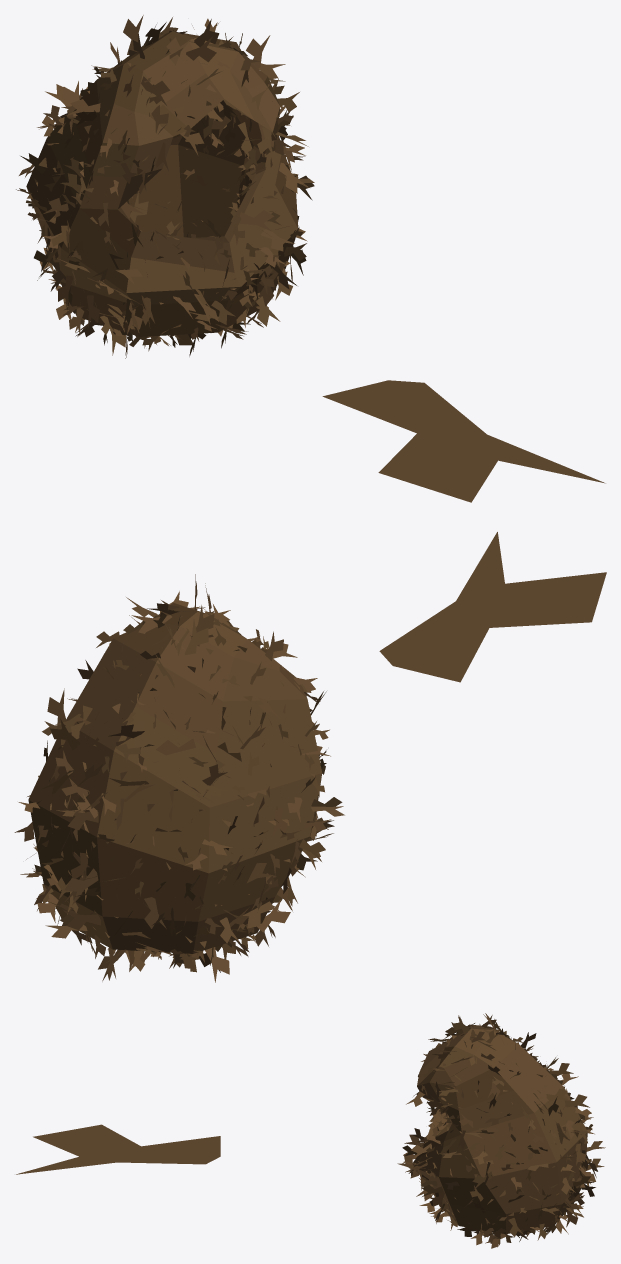
File: nest.fbx
The picture shows the model from 3 angles, top to bottom: view 1: azimuth 30°, elevation 25°; view 2: azimuth 150°, elevation 25°; view 3: azimuth 270°, elevation 25°; orthographic projection. The views are drawn at different scales.
Parts seen in each view (by area): view 1: Cylinder, Plane; view 2: Cylinder, Plane; view 3: Cylinder, Plane.
Boxes of the visible parts, left/top/right/bottom form: Cylinder: left=26, top=31, right=298, bottom=336; Plane: left=322, top=380, right=605, bottom=502; Cylinder: left=28, top=602, right=322, bottom=953; Plane: left=379, top=532, right=606, bottom=682; Cylinder: left=413, top=1024, right=587, bottom=1234; Plane: left=16, top=1124, right=220, bottom=1174.
Size of the model in its own units: 250 by 313 by 747.
